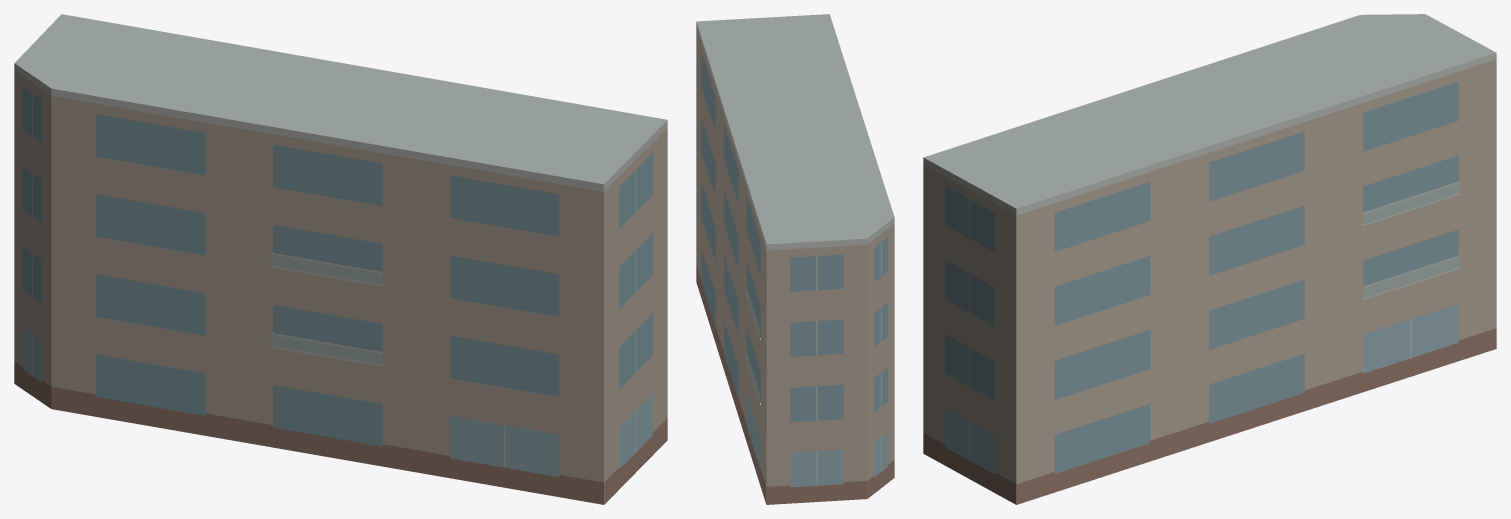
File: survey-upis-32704295.glb
3 renders of one model, left to right at view 1: azimuth 30°, elevation 25°; view 2: azimuth 150°, elevation 25°; view 3: azimuth 270°, elevation 25°, orthographic. The views are drawn at different scales.
Visible parts, largest first — view 1: survey-upis-32704295.tmp; view 2: survey-upis-32704295.tmp; view 3: survey-upis-32704295.tmp.
Boxes of the visible parts, <box> form: survey-upis-32704295.tmp: <box>14,14,667,504</box>; survey-upis-32704295.tmp: <box>696,14,894,504</box>; survey-upis-32704295.tmp: <box>923,14,1496,504</box>.
Size of the model in its own units: 14.82 by 10.5 by 18.43.
